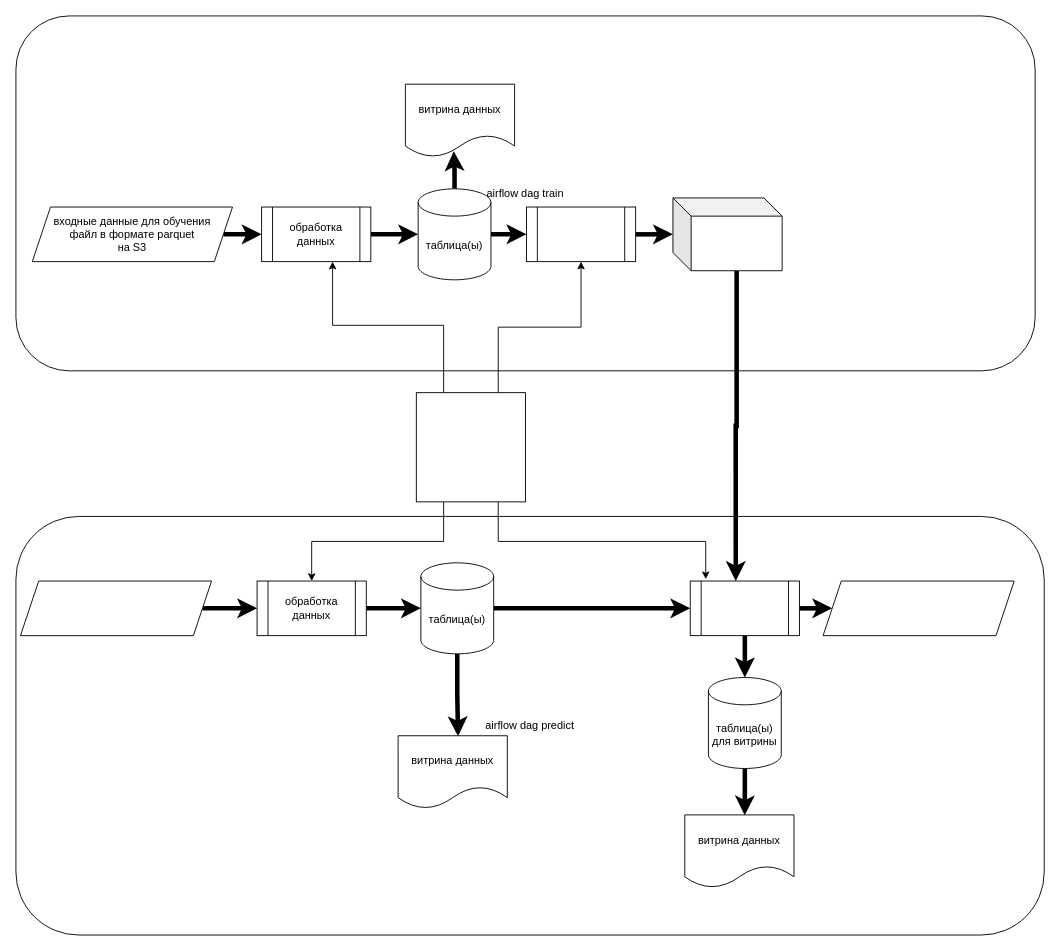
The diagram is 1060 pixels wide and 951 high, and some of its shapes have lost their labels. Here are the shapes that lost their labels. From the top down, the centre of each, then its label:
the point at 581,234: тренировка данных
the point at 727,234: модель в mlflow
the point at 470,447: github размещение исходного кода
the point at 116,608: входные данные для предсказания файл в формате parquet на S3
the point at 744,608: предсказание
the point at 918,608: выходные данные предсказания файл(ы) в формате parquet на S3
